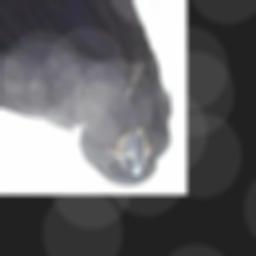Crow: (0, 0, 174, 188)
